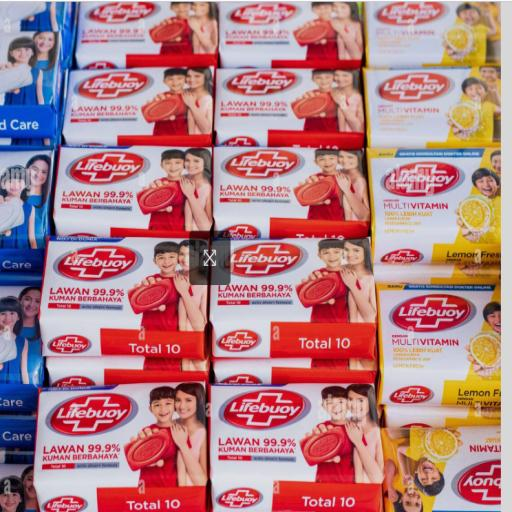lifebuoy: (384, 276, 509, 408), (39, 392, 209, 483), (210, 388, 374, 482), (209, 242, 363, 334), (46, 234, 205, 322), (213, 146, 370, 232), (57, 146, 207, 230), (216, 68, 372, 146), (374, 148, 512, 235), (388, 426, 506, 512), (372, 68, 495, 150), (68, 69, 212, 138), (76, 0, 216, 69), (219, 0, 361, 66), (363, 4, 497, 63), (210, 481, 383, 511), (48, 356, 204, 388), (31, 485, 204, 512), (217, 336, 376, 359), (385, 511, 387, 512)
